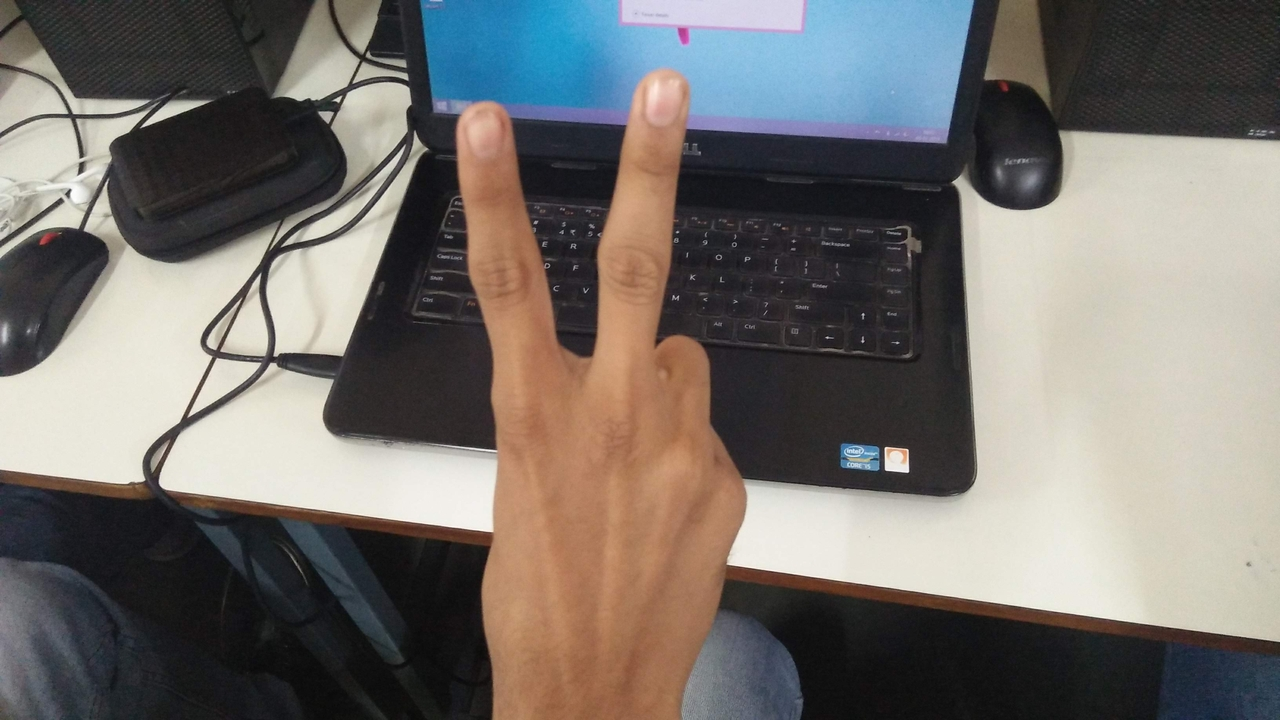fingertip: (448, 98, 520, 162), (626, 64, 694, 126)
